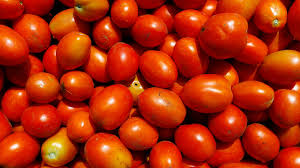tomato: (89, 83, 134, 132), (196, 20, 246, 64), (176, 121, 219, 168), (139, 88, 182, 131), (83, 132, 132, 168), (191, 80, 235, 117), (144, 48, 178, 92), (54, 32, 94, 65), (134, 16, 174, 49), (23, 108, 62, 135), (29, 72, 66, 100), (106, 42, 134, 78)
